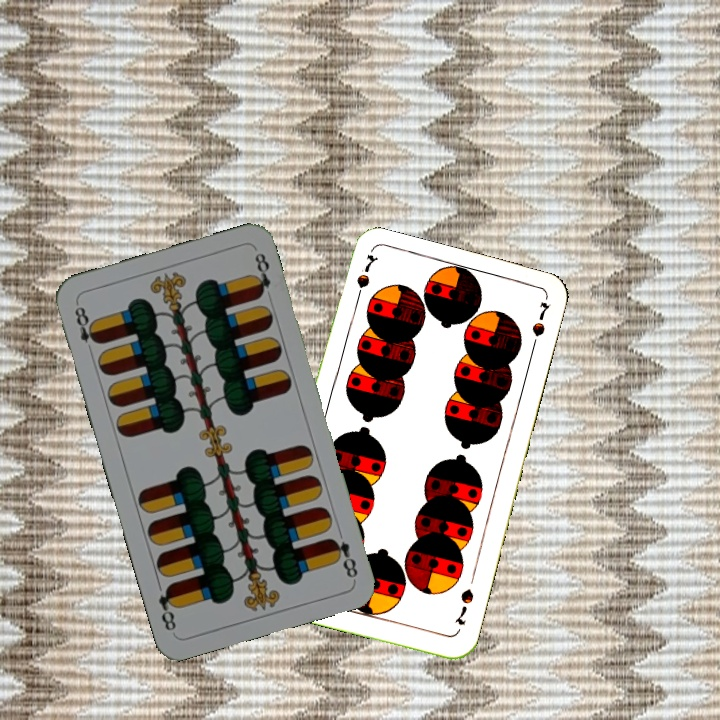E8: (70, 299, 102, 357), (325, 534, 361, 581)
S7: (351, 250, 377, 308), (450, 584, 477, 628)
